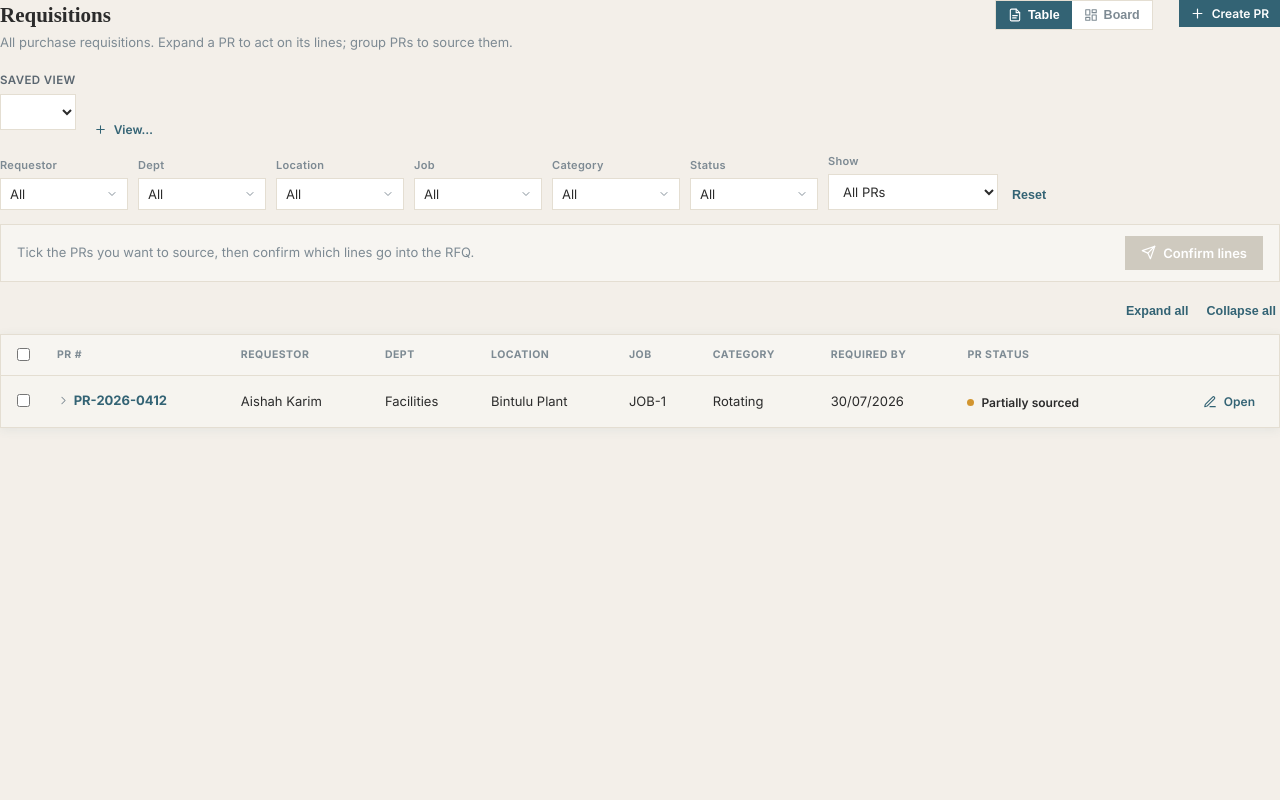
Test: PR management (Slice B) › Create PR opens the create form
Expected: the text "PR-2026-0412" is shown, [74,392,167,408]
Click the button "Create PR". click: (1229, 14)
box: [1179,0,1279,27]
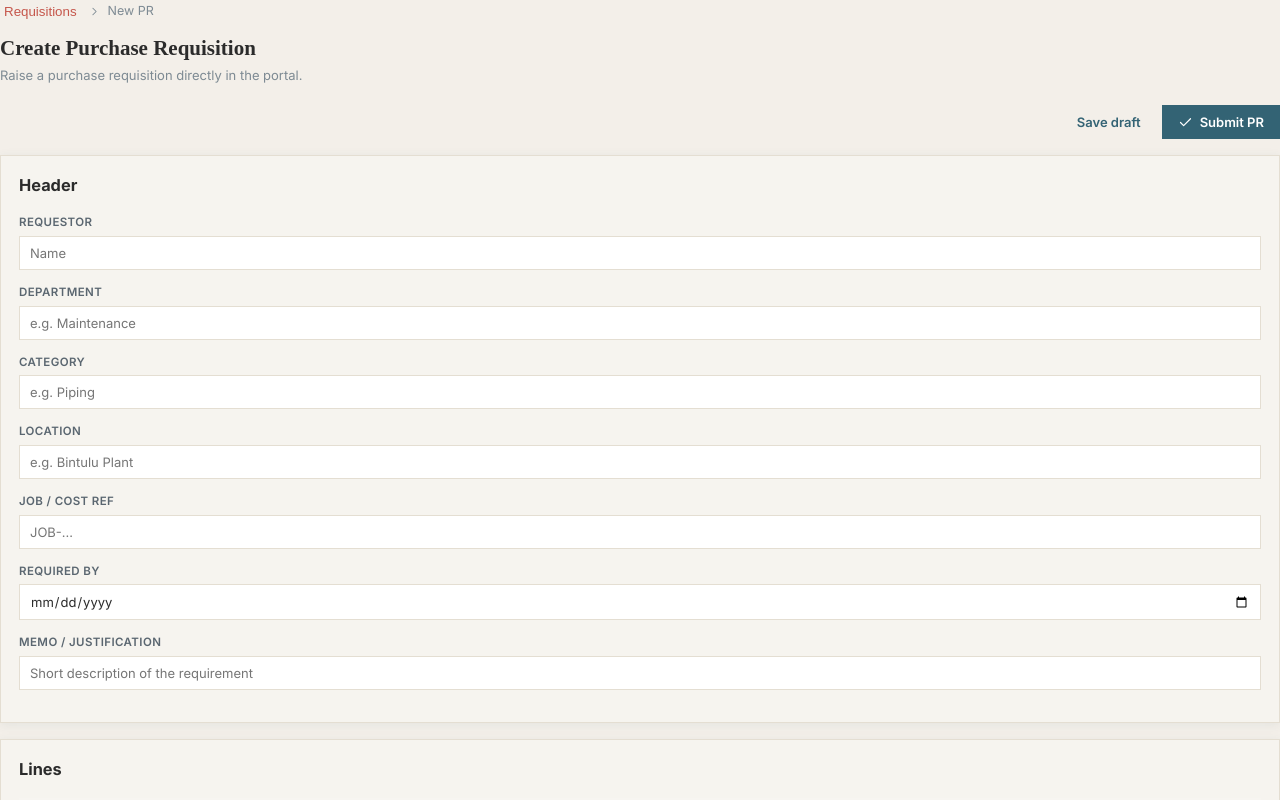
Now the heading "Create Purchase Requisition" is shown, box [0,36,256,60]
Now the number of buttons "Save draft" is 2
Now the number of buttons "Submit PR" is 2
